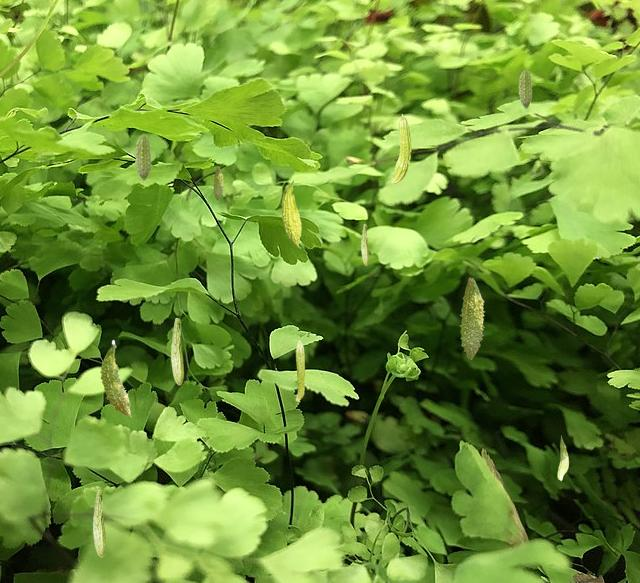ampalaya: (99, 339, 131, 417), (459, 277, 485, 360), (390, 113, 411, 183), (281, 180, 301, 249), (170, 317, 184, 385), (92, 489, 106, 557), (134, 133, 151, 181), (295, 339, 305, 402), (518, 68, 532, 109), (557, 434, 569, 481), (212, 166, 224, 200), (360, 223, 369, 266)
